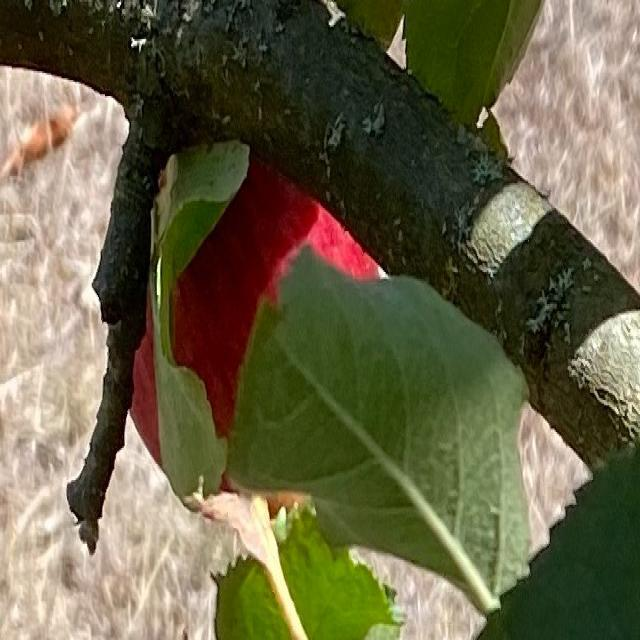Apples: (129, 144, 380, 524)
